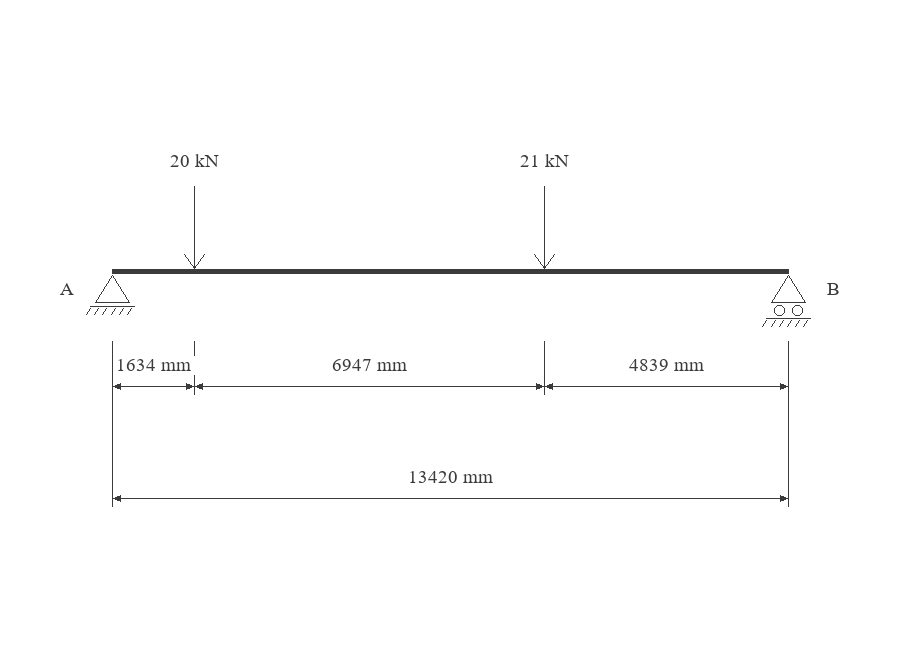pin_support: (86, 275, 135, 315)
point_load: (184, 186, 205, 269), (534, 186, 555, 269)
roller_support: (762, 275, 811, 327)
